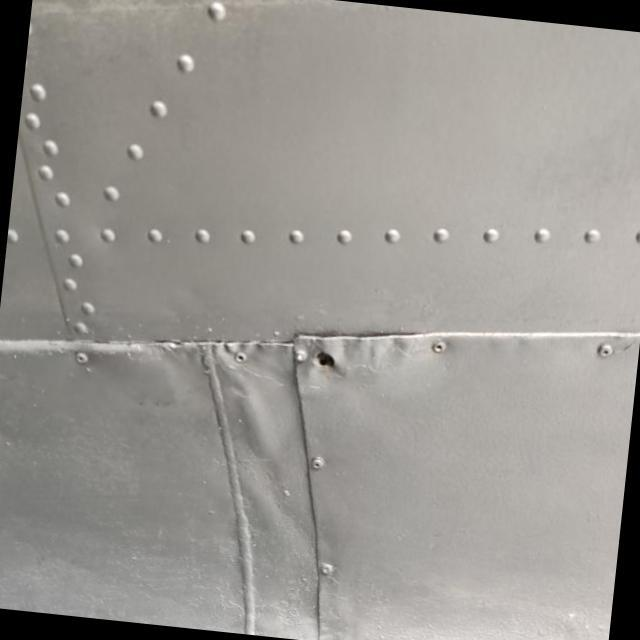Fastener Damage: (272, 316, 362, 401)
